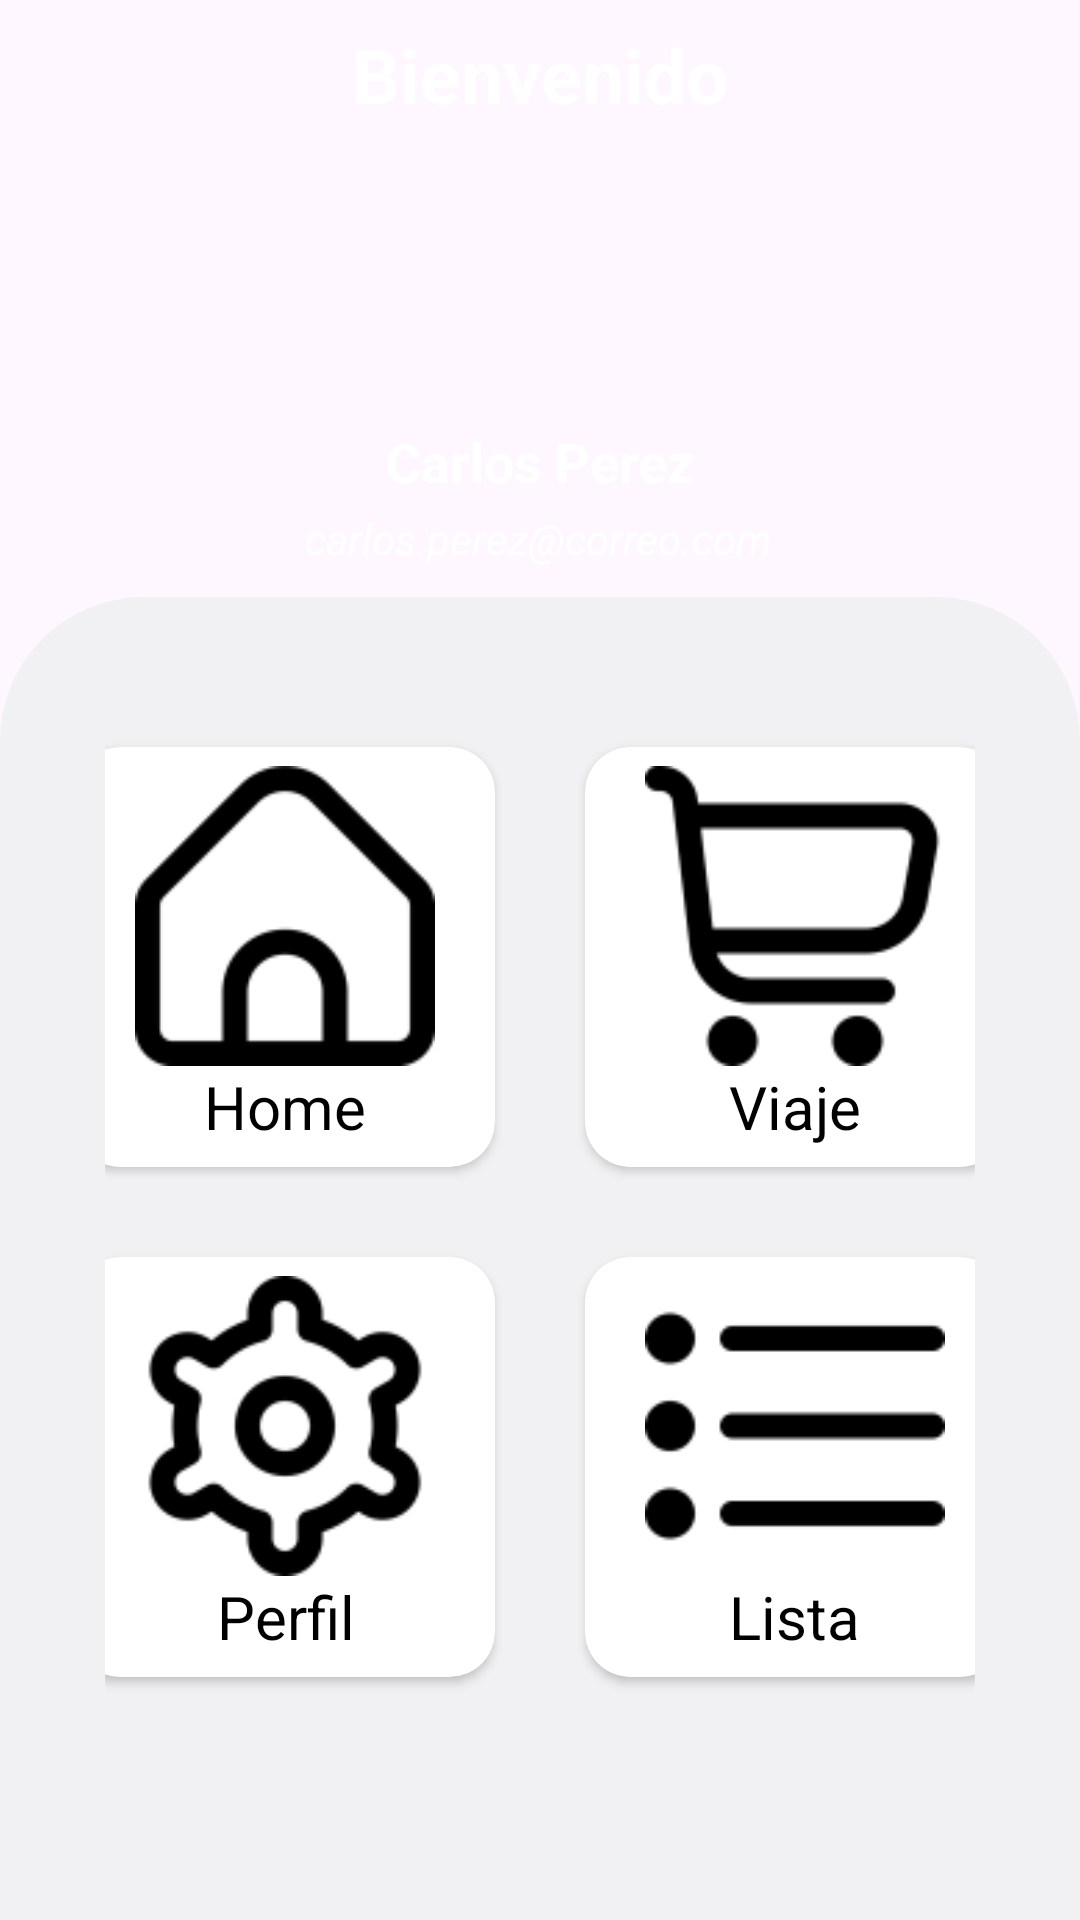

Named icons in this screenshot (1080px×1920px) and their bounding boxes, [left=x1, top=y1, right=x2, bottom=y2]:
ajustes: [left=148, top=1276, right=422, bottom=1576]
carrito: [left=645, top=766, right=940, bottom=1066]
